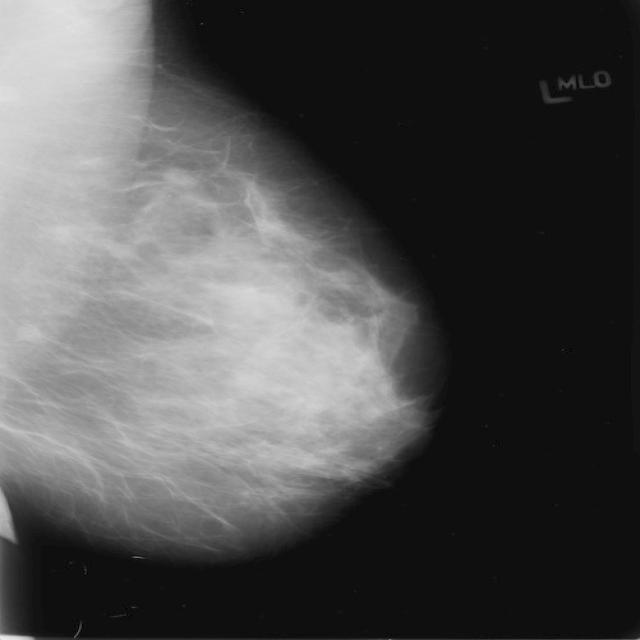tumour: (158, 165, 200, 186)
